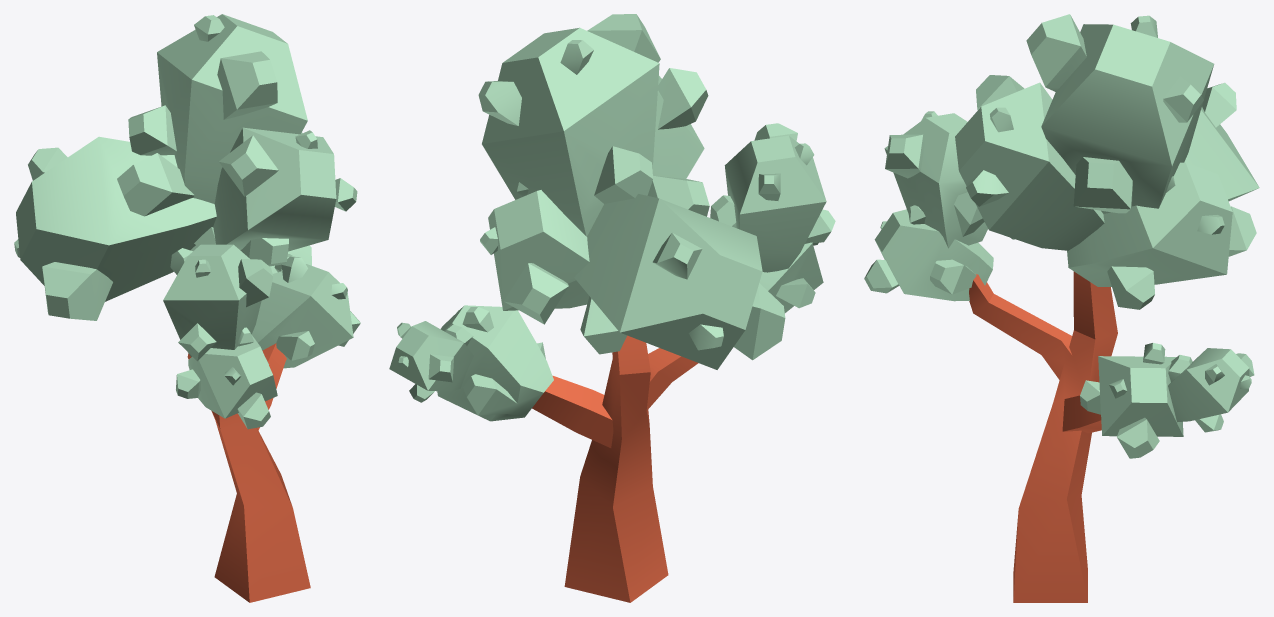
File: Tree.fbx
3 views of the same model, side by side, from view 1: azimuth 30°, elevation 25°; view 2: azimuth 150°, elevation 25°; view 3: azimuth 270°, elevation 25° (orthographic). The views are drawn at different scales.
Parts seen in each view (by area): view 1: Tree; view 2: Tree; view 3: Tree.
Boxes of the visible parts, x1=… form: Tree: x1=14, y1=14, x2=360, y2=602; Tree: x1=389, y1=14, x2=835, y2=602; Tree: x1=864, y1=14, x2=1259, y2=602.
Bounding box in the file's own units: 1059 × 1673 × 1060.
3 materials, 2 textured.
